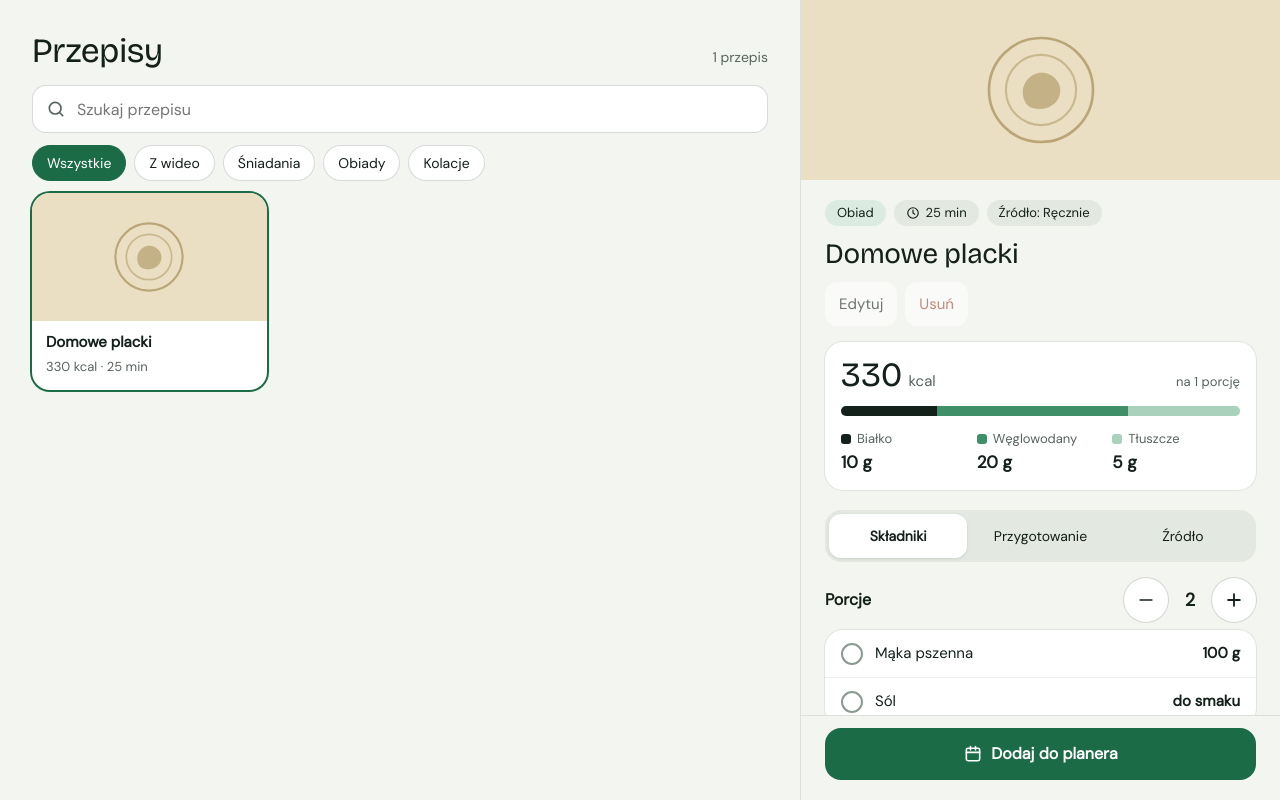
Scenario: usunięcie z panelu laptopa na / usuwa kartę i odświeża licznik
Step 1. Click the button "Usuń" → click(937, 304), box x1=905 y1=282 x2=968 y2=326
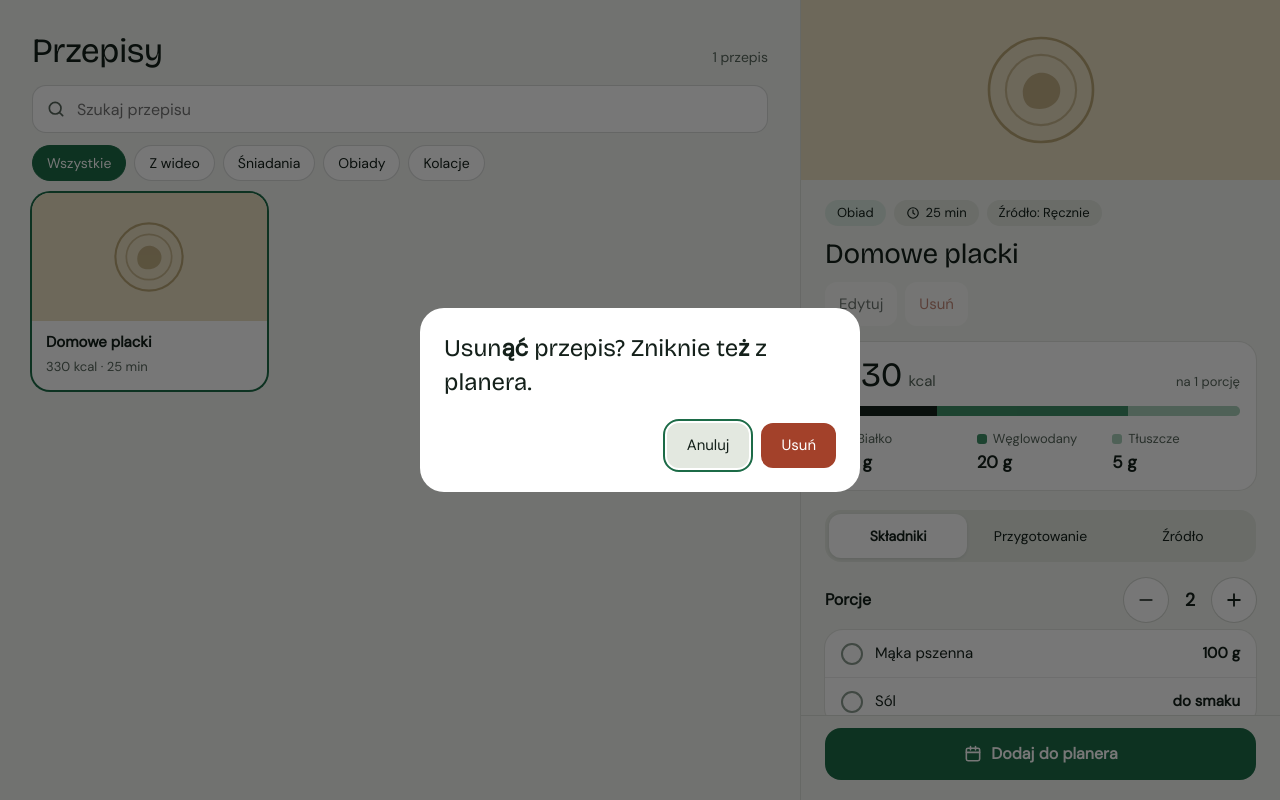
Step 2. Click the button "Usuń" → click(799, 446), box x1=761 y1=423 x2=836 y2=468
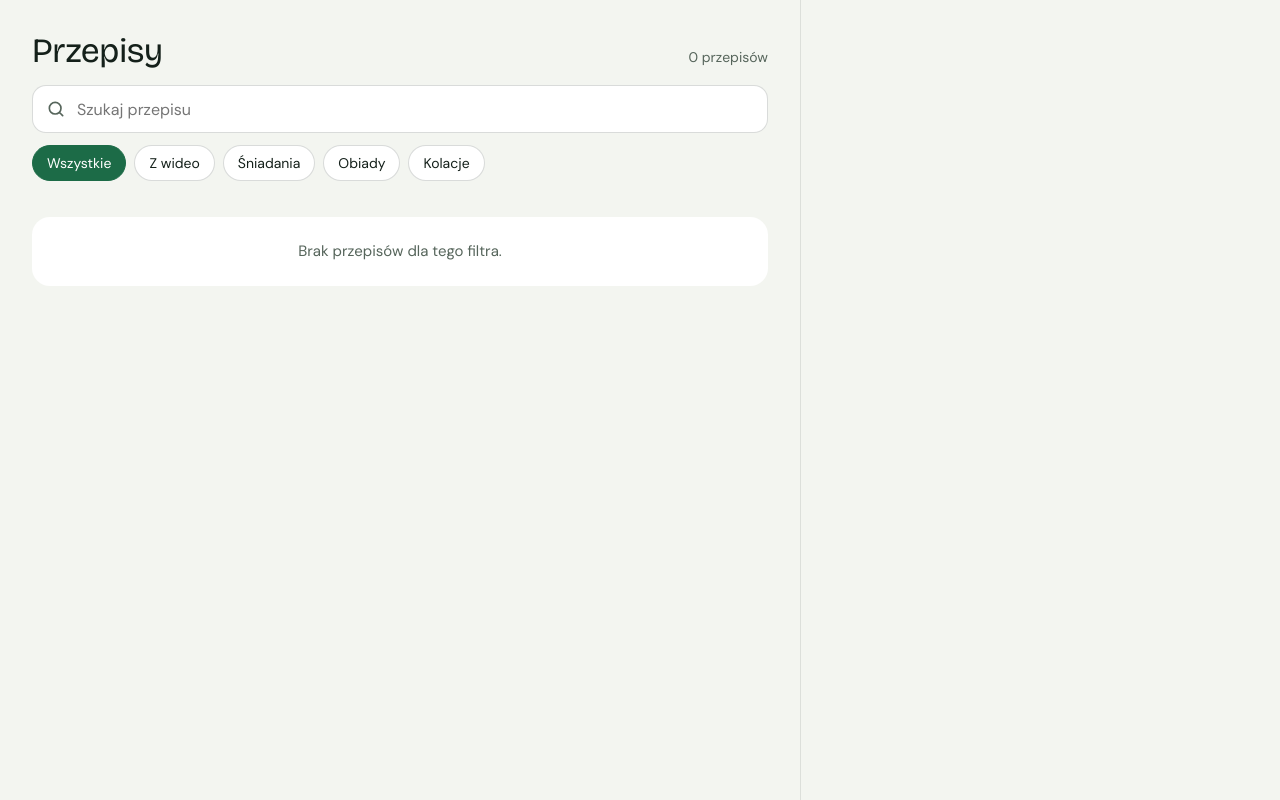
Now the text "0 przepisów" is shown, box x1=688 y1=48 x2=768 y2=68
Now the button "Domowe placki" is gone
